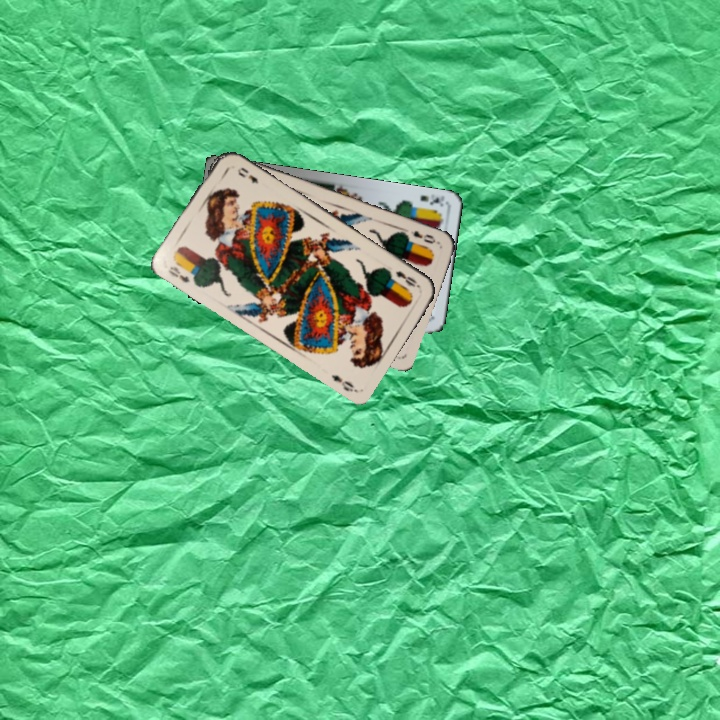EK: (416, 191, 447, 209)
EO: (391, 267, 423, 291), (164, 262, 192, 285), (406, 226, 438, 246)
